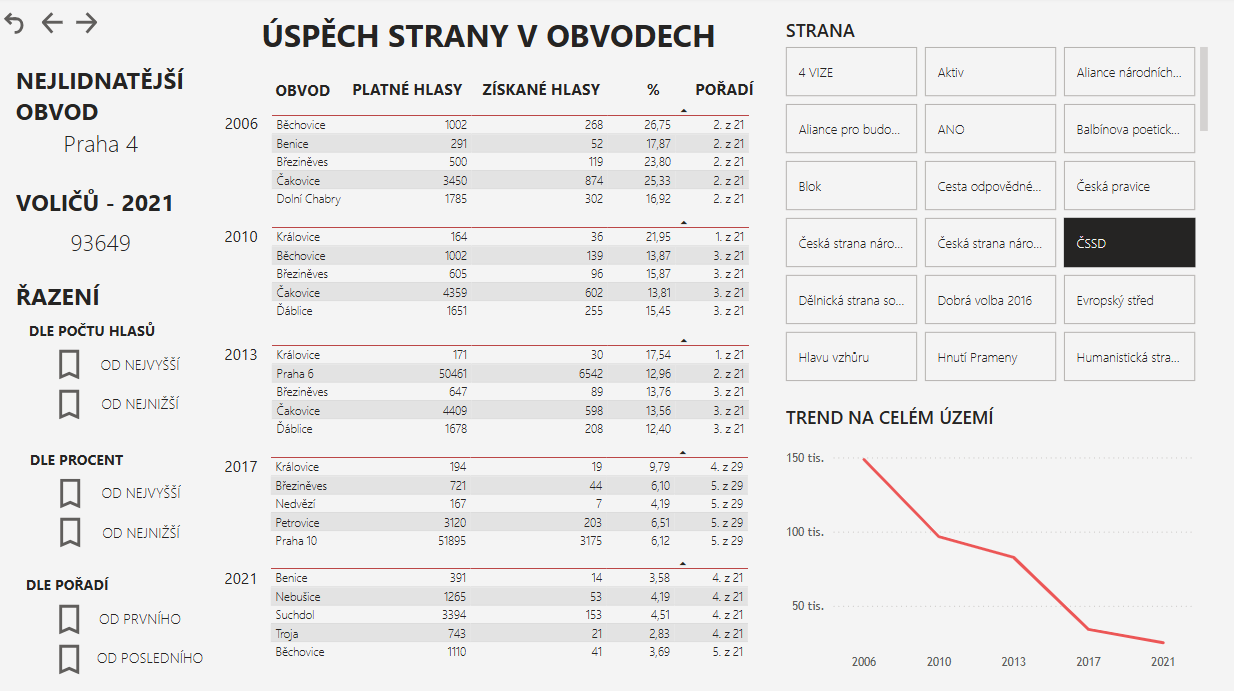

The dashboard page shown, as its layout file describes it:
{"tool":"powerbi","page":{"name":"Stránka 3","canvas":[1280,720],"ordinal":3},"visuals":[{"type":"card","title":"NEJLIDNATĚJŠÍ OBVOD","fields":{"Values":["Min(master_hlasy.NÁZEV OBVODU)"]},"box":[12.2,68.9,185.6,103.3],"z":0},{"type":"advancedSlicerVisual","fields":{"Values":["master_hlasy.STRANA"]},"box":[810,22.2,447.8,386.7],"z":1000},{"type":"actionButton","box":[0,11.4,40.4,31.1],"z":2000},{"type":"actionButton","box":[40.6,11.6,33.8,30.9],"z":3000},{"type":"actionButton","box":[74.4,11.6,40.6,30.9],"z":4000},{"type":"textbox","box":[224.4,11.1,564.4,55.6],"z":5000},{"type":"lineChart","title":"TREND NA CELÉM ÚZEMÍ","fields":{"Category":["master_hlasy.ROK"],"Y":["Sum(master_hlasy.POČET HLASŮ)"],"Series":["master_hlasy.STRANA"]},"box":[810,422.2,432.2,282.2],"z":6000},{"type":"textbox","box":[12.2,287.8,120,46.7],"z":7000},{"type":"textbox","box":[92.9,365.3,105.7,32.2],"z":8000},{"type":"actionButton","box":[52.6,360.8,40.3,40.3],"z":9000},{"type":"textbox","box":[26,330.4,162,35],"z":10000},{"type":"textbox","box":[92.9,406.5,105.7,32.2],"z":11000},{"type":"actionButton","box":[52.6,402,40.3,40.3],"z":12000},{"type":"textbox","box":[94,497.9,105.7,32.2],"z":13000},{"type":"actionButton","box":[53.7,493.5,40.3,40.3],"z":14000},{"type":"textbox","box":[27,463.4,162,35],"z":15000},{"type":"textbox","box":[94,539.1,105.7,32.2],"z":16000},{"type":"actionButton","box":[53.7,534.7,40.3,40.3],"z":17000},{"type":"textbox","box":[92.8,629.1,105.7,32.2],"z":18000},{"type":"actionButton","box":[52.5,624.6,40.3,40.3],"z":19000},{"type":"textbox","box":[23,593.4,162,30],"z":20000},{"type":"textbox","box":[96.7,668.9,128.9,32.2],"z":21000},{"type":"actionButton","box":[52.5,665.8,40.3,40.3],"z":22000},{"type":"tableEx","title":"2006","fields":{"Values":["master_hlasy.NÁZEV OBVODU","master_hlasy.Platné hlasy v obvodu","Sum(master_hlasy.POČET HLASŮ)","master_hlasy.% z platných hlasů","master_hlasy.Pořadí mezi stranami"]},"box":[275.2,562.8,513,131],"z":23000},{"type":"textbox","box":[223.6,114.6,54.5,33.2],"z":24000},{"type":"textbox","box":[224,231.9,54.1,34.1],"z":25000},{"type":"textbox","box":[224,353.7,54.1,33.2],"z":26000},{"type":"textbox","box":[224,470.1,54.1,32.7],"z":27000},{"type":"textbox","box":[224,586,54.1,34.1],"z":28000},{"type":"tableEx","title":"2006","fields":{"Values":["master_hlasy.NÁZEV OBVODU","master_hlasy.Platné hlasy v obvodu","Sum(master_hlasy.POČET HLASŮ)","master_hlasy.% z platných hlasů","master_hlasy.Pořadí mezi stranami"]},"box":[275.2,447.8,513,131],"z":29000},{"type":"tableEx","title":"2006","fields":{"Values":["master_hlasy.NÁZEV OBVODU","master_hlasy.Platné hlasy v obvodu","Sum(master_hlasy.POČET HLASŮ)","master_hlasy.% z platných hlasů","master_hlasy.Pořadí mezi stranami"]},"box":[276.2,331.8,513,131],"z":30000},{"type":"tableEx","title":"2006","fields":{"Values":["master_hlasy.NÁZEV OBVODU","master_hlasy.Platné hlasy v obvodu","Sum(master_hlasy.POČET HLASŮ)","master_hlasy.% z platných hlasů","master_hlasy.Pořadí mezi stranami"]},"box":[276.2,208.8,513,131],"z":31000},{"type":"tableEx","title":"2006","fields":{"Values":["master_hlasy.NÁZEV OBVODU","master_hlasy.Platné hlasy v obvodu","Sum(master_hlasy.POČET HLASŮ)","master_hlasy.% z platných hlasů","master_hlasy.Pořadí mezi stranami"]},"box":[276.2,92.8,513,131],"z":32000},{"type":"textbox","box":[274.7,80.3,80.6,33.1],"z":33000},{"type":"textbox","box":[355.3,79.4,135.2,34.9],"z":34000},{"type":"textbox","box":[490.5,79.4,141.5,34.9],"z":35000},{"type":"textbox","box":[647.4,79.6,60.8,34.5],"z":36000},{"type":"textbox","box":[710,79.6,81.6,34.5],"z":37000},{"type":"card","title":"VOLIČŮ - 2021","fields":{"Values":["Sum(master_účast.REGISTROVANÝCH VOLIČŮ)"]},"box":[12.2,195.6,185.6,86.7],"z":38000}]}

Visuals, with their boxes in screenshot pixels (x1, y1, x2, y2), scaled from the page's 1280x720 canvas onto the 1234x691 screenshot:
"NEJLIDNATĚJŠÍ OBVOD" card: locate(12, 66, 191, 165)
advancedSlicerVisual - master_hlasy.STRANA: locate(781, 21, 1213, 392)
actionButton: locate(0, 11, 39, 41)
actionButton: locate(39, 11, 72, 41)
actionButton: locate(72, 11, 111, 41)
textbox: locate(216, 11, 760, 64)
"TREND NA CELÉM ÚZEMÍ" lineChart: locate(781, 405, 1198, 676)
textbox: locate(12, 276, 127, 321)
textbox: locate(90, 351, 191, 381)
actionButton: locate(51, 346, 90, 385)
textbox: locate(25, 317, 181, 351)
textbox: locate(90, 390, 191, 421)
actionButton: locate(51, 386, 90, 424)
textbox: locate(91, 478, 193, 509)
actionButton: locate(52, 474, 91, 512)
textbox: locate(26, 445, 182, 478)
textbox: locate(91, 517, 193, 548)
actionButton: locate(52, 513, 91, 552)
textbox: locate(89, 604, 191, 635)
actionButton: locate(51, 599, 89, 638)
textbox: locate(22, 569, 178, 598)
textbox: locate(93, 642, 217, 673)
actionButton: locate(51, 639, 89, 678)
"2006" tableEx: locate(265, 540, 760, 666)
textbox: locate(216, 110, 268, 142)
textbox: locate(216, 223, 268, 255)
textbox: locate(216, 339, 268, 371)
textbox: locate(216, 451, 268, 483)
textbox: locate(216, 562, 268, 595)
"2006" tableEx: locate(265, 430, 760, 555)
"2006" tableEx: locate(266, 318, 761, 444)
"2006" tableEx: locate(266, 200, 761, 326)
"2006" tableEx: locate(266, 89, 761, 215)
textbox: locate(265, 77, 343, 109)
textbox: locate(343, 76, 473, 110)
textbox: locate(473, 76, 609, 110)
textbox: locate(624, 76, 683, 110)
textbox: locate(684, 76, 763, 110)
"VOLIČŮ - 2021" card: locate(12, 188, 191, 271)
